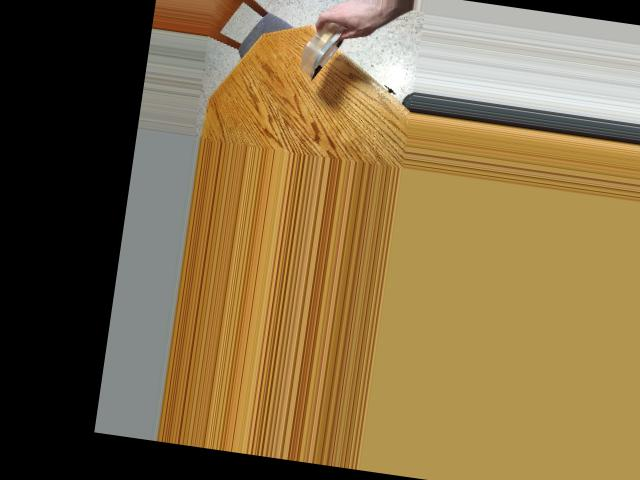cheese: (298, 15, 345, 81)
